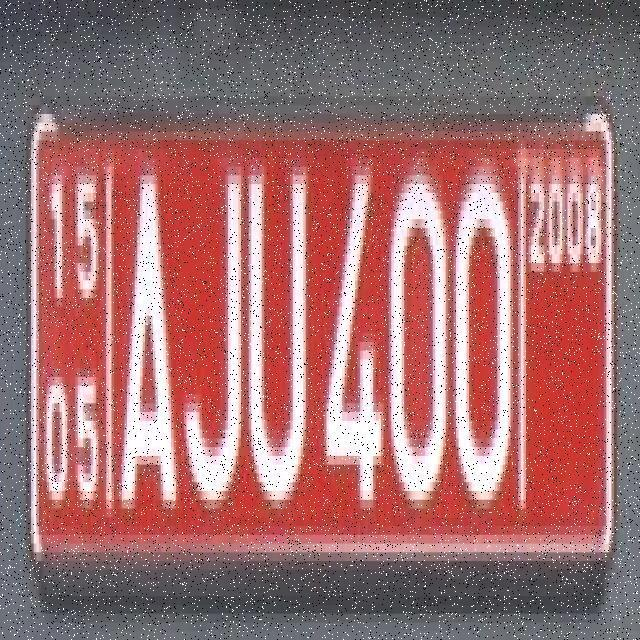LicensePlate: (11, 83, 633, 591)
